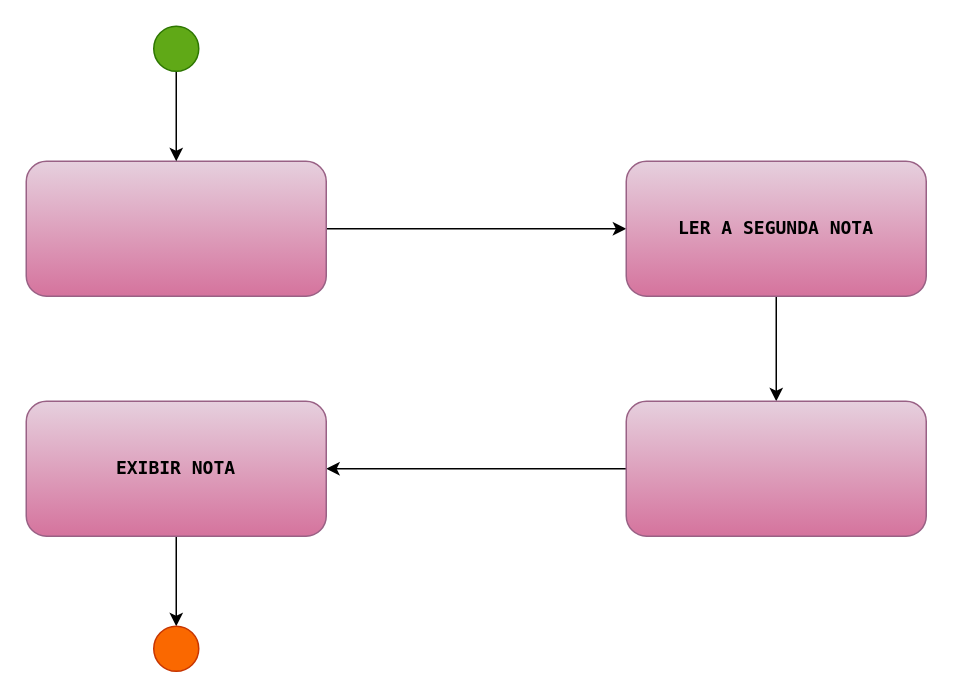
Image size: 953x698. Some labels were removed from this diagram. The shapes that lost their labels are listed below. From the top down, each one's centre as x and y in pixels, then its label:
(x=175, y=228): LER A PRIMEIRA NOTA
(x=775, y=468): SOMAR NOTAS E DIVIDIR
